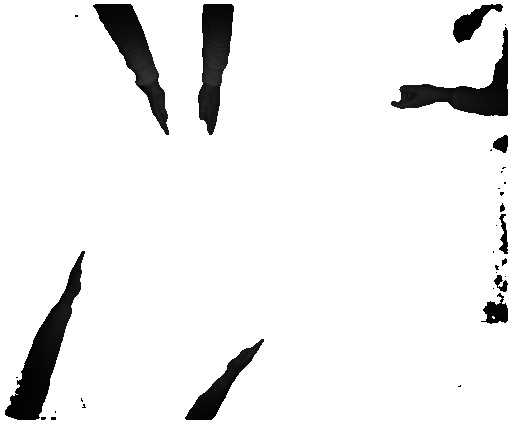fist: (448, 17, 476, 47)
hand: (384, 83, 437, 111)
spine: (128, 86, 173, 135), (216, 336, 263, 374), (60, 248, 87, 305), (198, 86, 223, 135)
